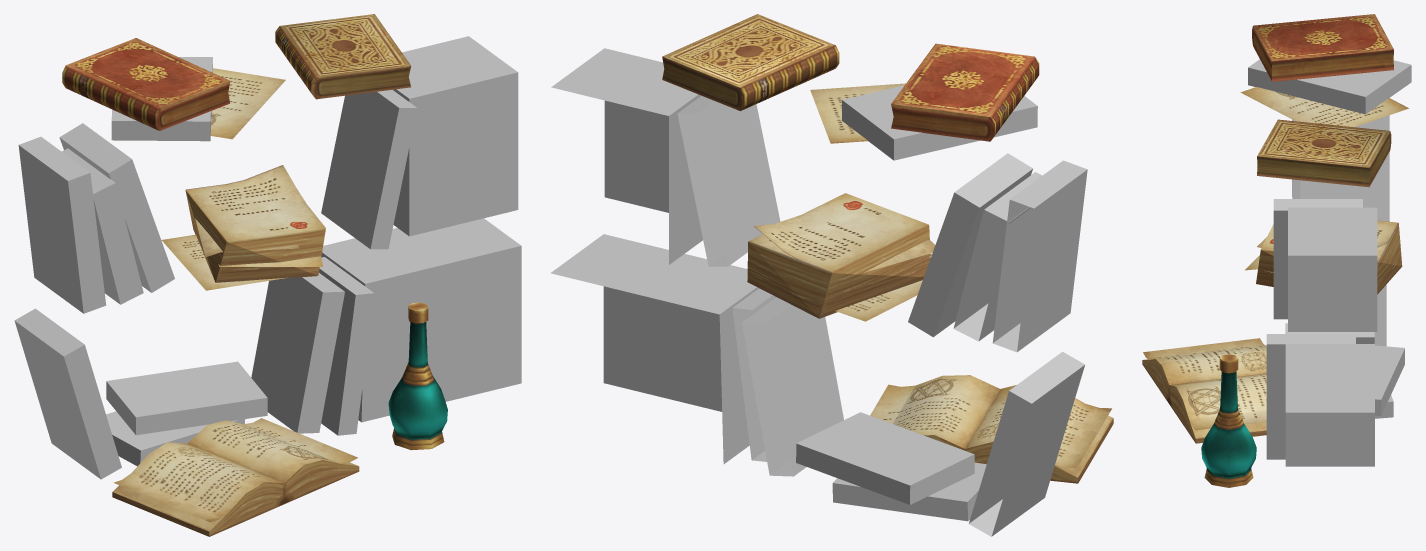
File: Shelf_Preset_04.FBX
3 renders of one model, left to right at view 1: azimuth 30°, elevation 25°; view 2: azimuth 150°, elevation 25°; view 3: azimuth 270°, elevation 25°, orthographic. The views are drawn at different scales.
Visible parts, largest first — view 1: Shelf_Preset_04; view 2: Shelf_Preset_04; view 3: Shelf_Preset_04.
Part boxes in pixels (left/top/right/bottom): Shelf_Preset_04: left=14, top=14, right=521, bottom=536; Shelf_Preset_04: left=550, top=14, right=1113, bottom=536; Shelf_Preset_04: left=1142, top=14, right=1411, bottom=487.
Size of the model in its own units: 113 by 64.56 by 91.32.
